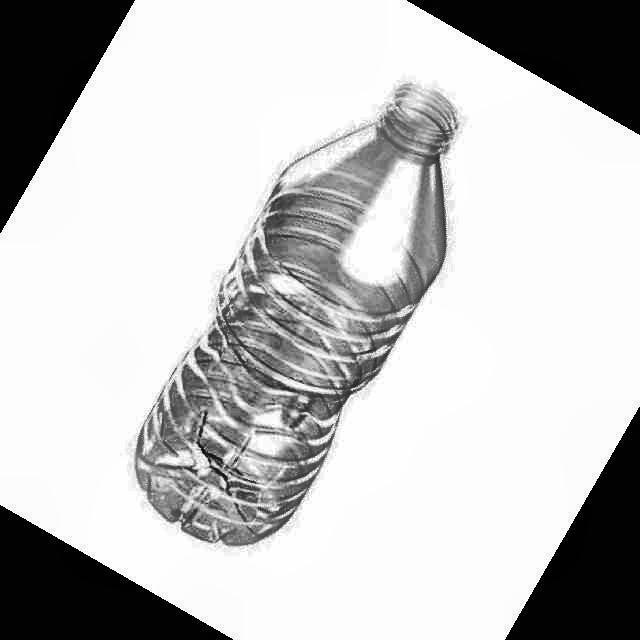plastic: (136, 85, 456, 544)
